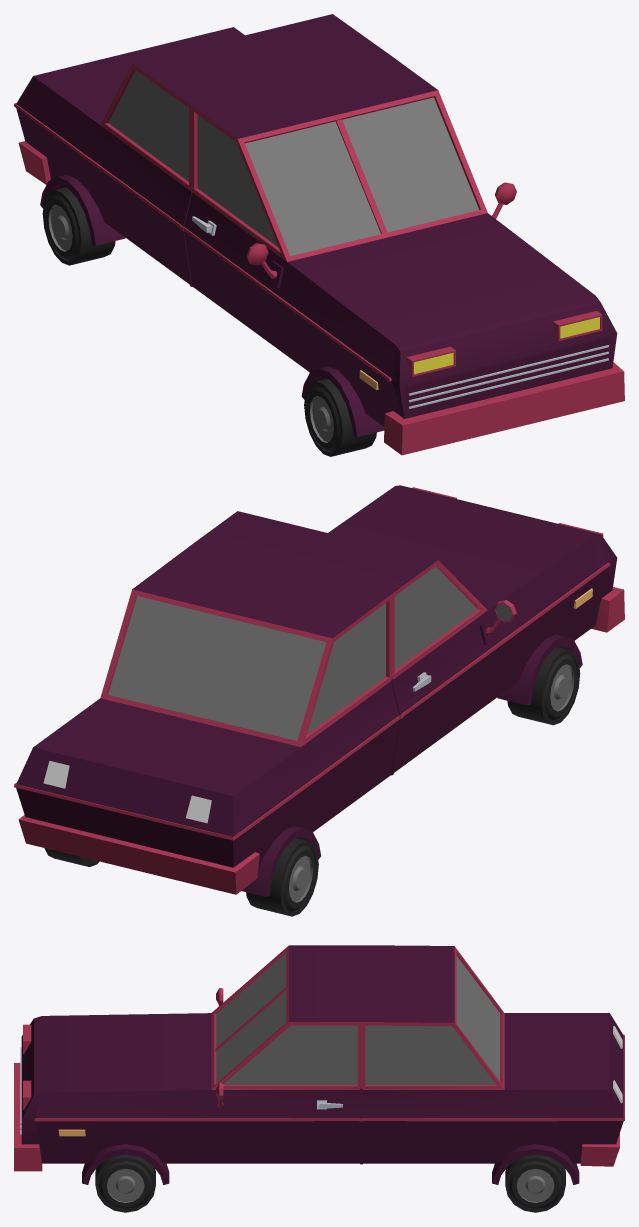
The model's file is civil-car-D.fbx.
The picture shows the model from 3 angles, top to bottom: view 1: azimuth 30°, elevation 25°; view 2: azimuth 150°, elevation 25°; view 3: azimuth 270°, elevation 25°; orthographic projection. The views are drawn at different scales.
Visible parts, largest first — view 1: civil-car-D, civil-car-D-front-wheels, civil-car-D-rear-wheels; view 2: civil-car-D, civil-car-D-rear-wheels, civil-car-D-front-wheels; view 3: civil-car-D, civil-car-D-rear-wheels, civil-car-D-front-wheels.
Boxes of the visible parts, x1=… form: civil-car-D: x1=14, y1=14, x2=624, y2=455; civil-car-D-front-wheels: x1=304, y1=379, x2=376, y2=456; civil-car-D-rear-wheels: x1=42, y1=187, x2=115, y2=265; civil-car-D: x1=14, y1=485, x2=624, y2=896; civil-car-D-rear-wheels: x1=44, y1=838, x2=318, y2=916; civil-car-D-front-wheels: x1=507, y1=647, x2=580, y2=725; civil-car-D: x1=14, y1=945, x2=624, y2=1184; civil-car-D-rear-wheels: x1=505, y1=1154, x2=565, y2=1212; civil-car-D-front-wheels: x1=95, y1=1154, x2=155, y2=1212.
Bounding box in the file's own units: 1.85 × 1.54 × 4.63.
